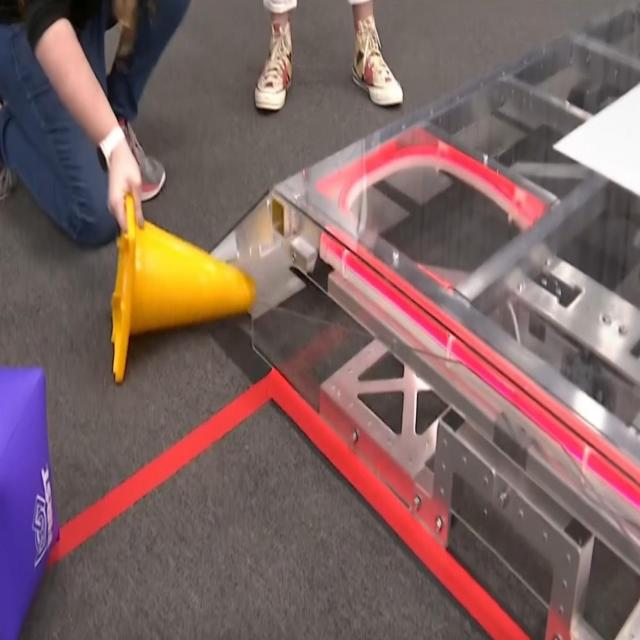frc_cone: (110, 192, 256, 382)
frc_cube: (0, 362, 57, 640)
